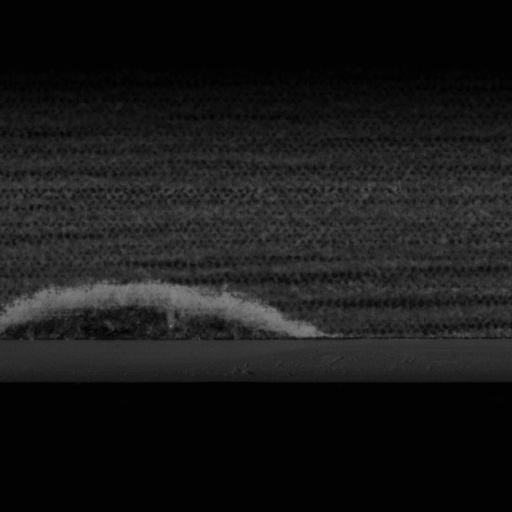bengque: (0, 297, 299, 339)
